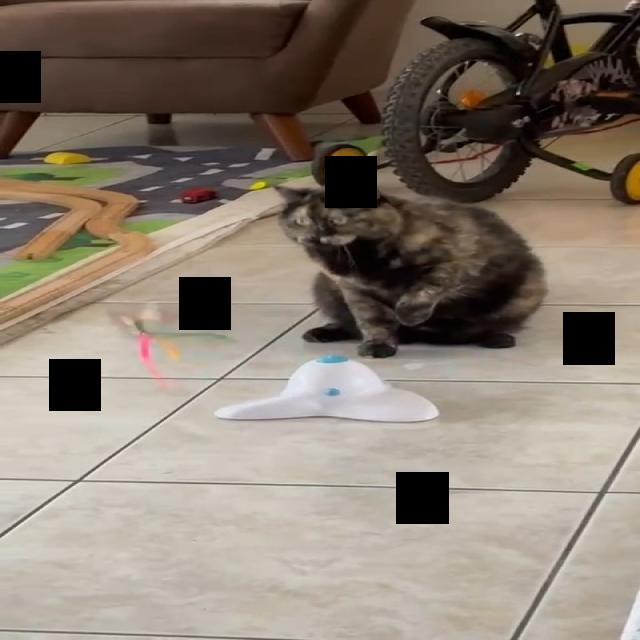authorized: (273, 180, 548, 358)
